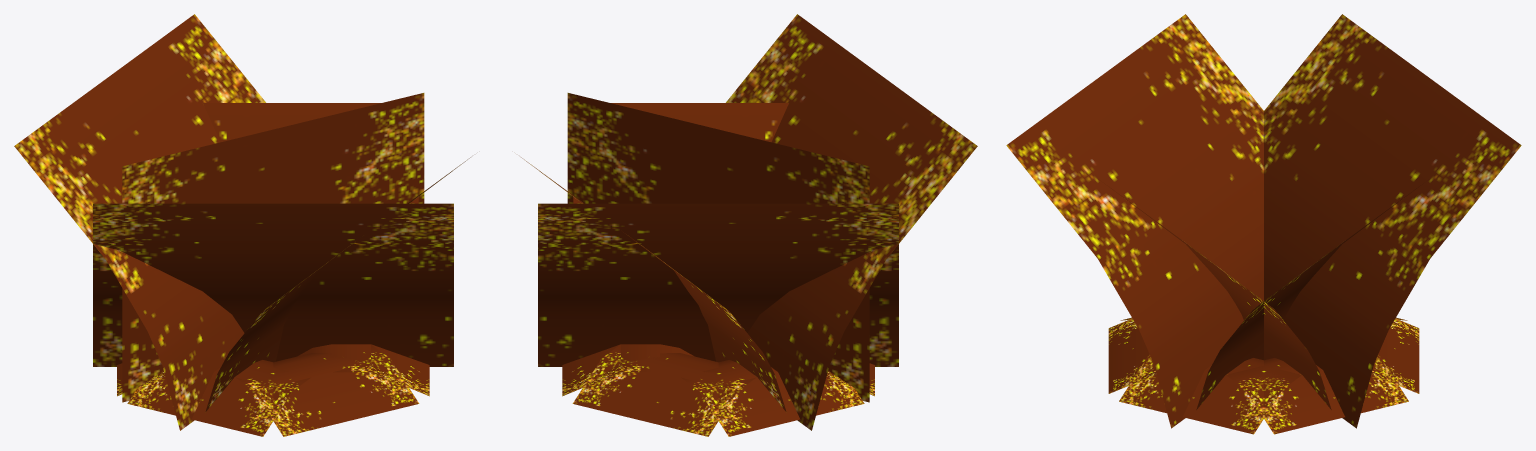
The model's file is LavaParticle.fbx.
The picture shows the model from 3 angles, left to right: view 1: azimuth 30°, elevation 25°; view 2: azimuth 150°, elevation 25°; view 3: azimuth 270°, elevation 25°; orthographic projection.
Parts seen in each view (by area): view 1: LavaParticle; view 2: LavaParticle; view 3: LavaParticle.
Boxes of the visible parts, left/top/right/bottom form: LavaParticle: left=14, top=14, right=470, bottom=436; LavaParticle: left=521, top=14, right=977, bottom=436; LavaParticle: left=1006, top=14, right=1521, bottom=434.
Size of the model in its own units: 1806 by 1077 by 2045.
